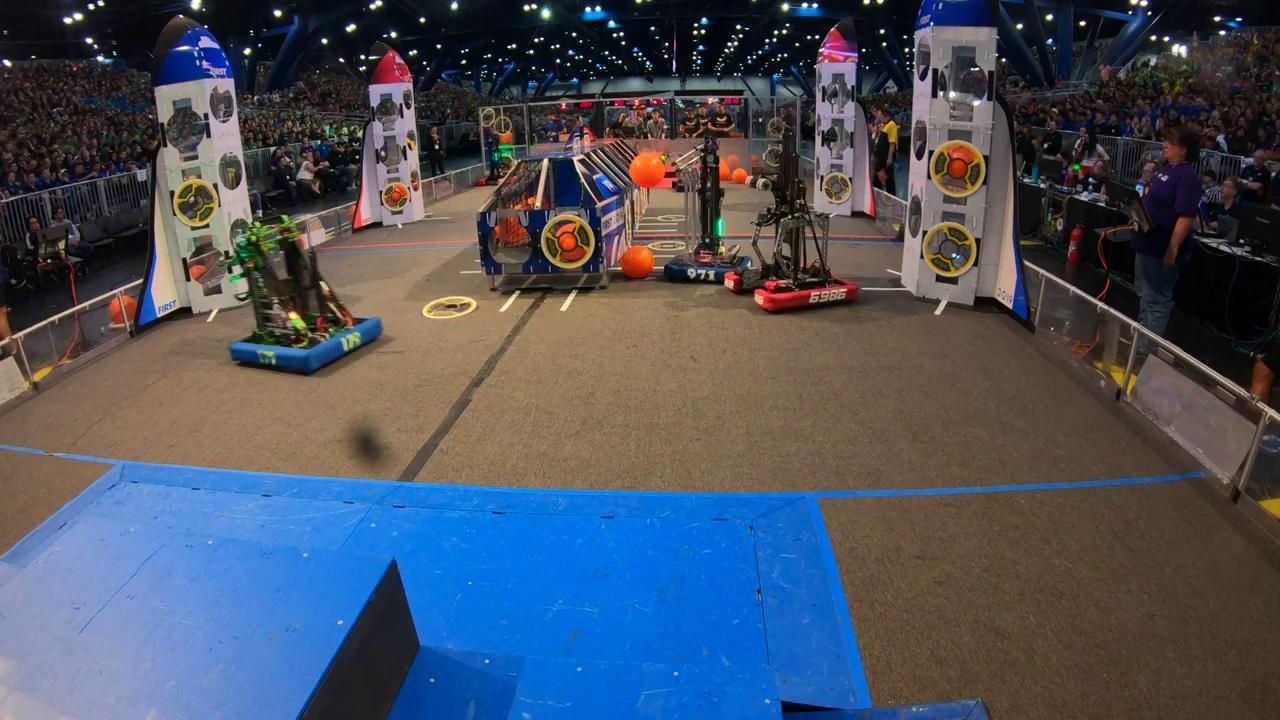robot: (221, 208, 387, 381), (722, 121, 864, 315), (656, 129, 757, 287)
